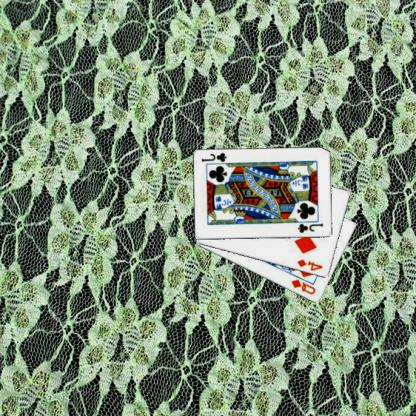4D: (296, 257, 326, 272)
JC: (297, 220, 326, 235), (201, 151, 230, 163)
QD: (290, 276, 318, 296)
